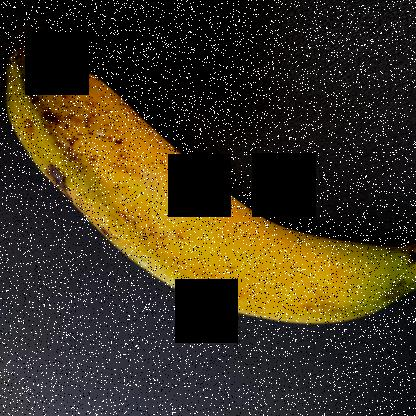ripe: (0, 35, 396, 346)
